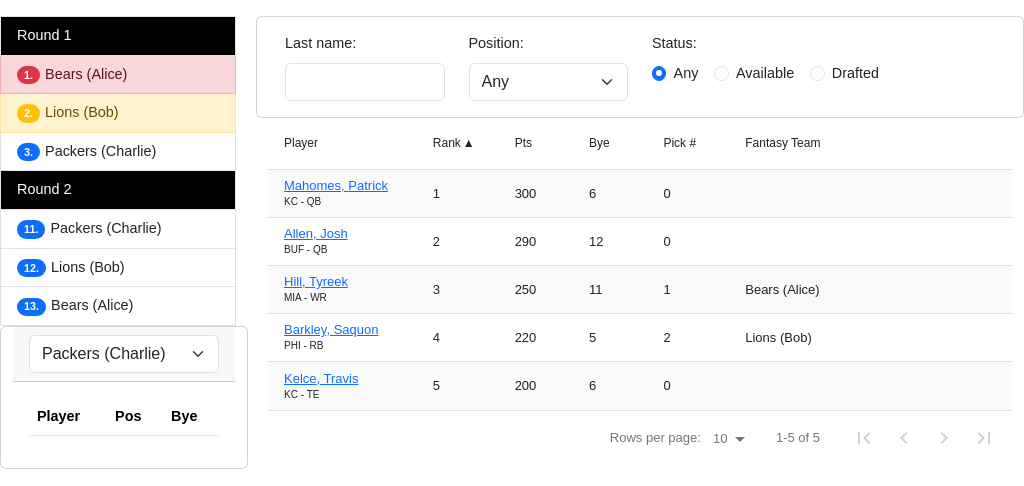
Test: Players › filtering › filter by last name narrows displayed players
The image size is (1024, 486).
In the field labelled "Last name:": (365, 82) [285,63,444,101], type "Ma"
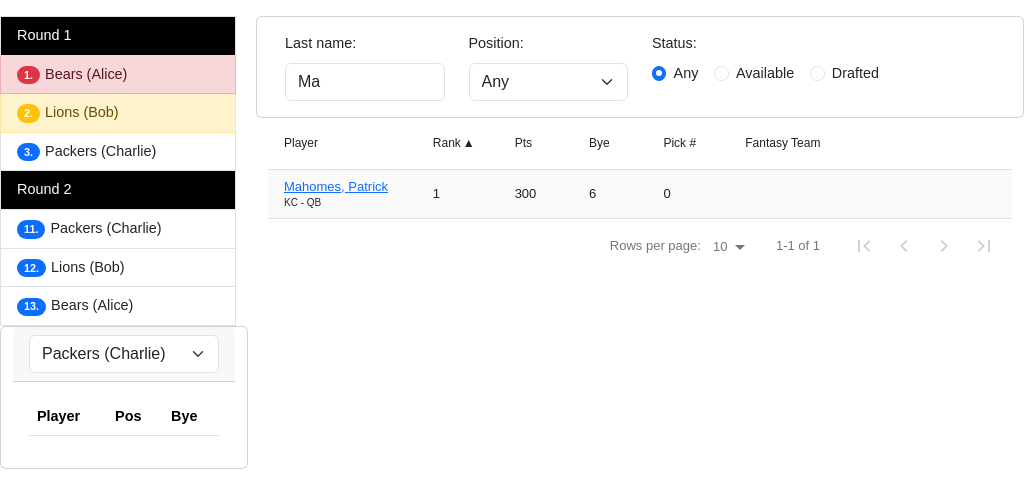
Expected: the link "Mahomes, Patrick" is shown, [284,179,388,194]
Expected: the link "Kelce" is gone
Expected: the link "Hill" is gone
